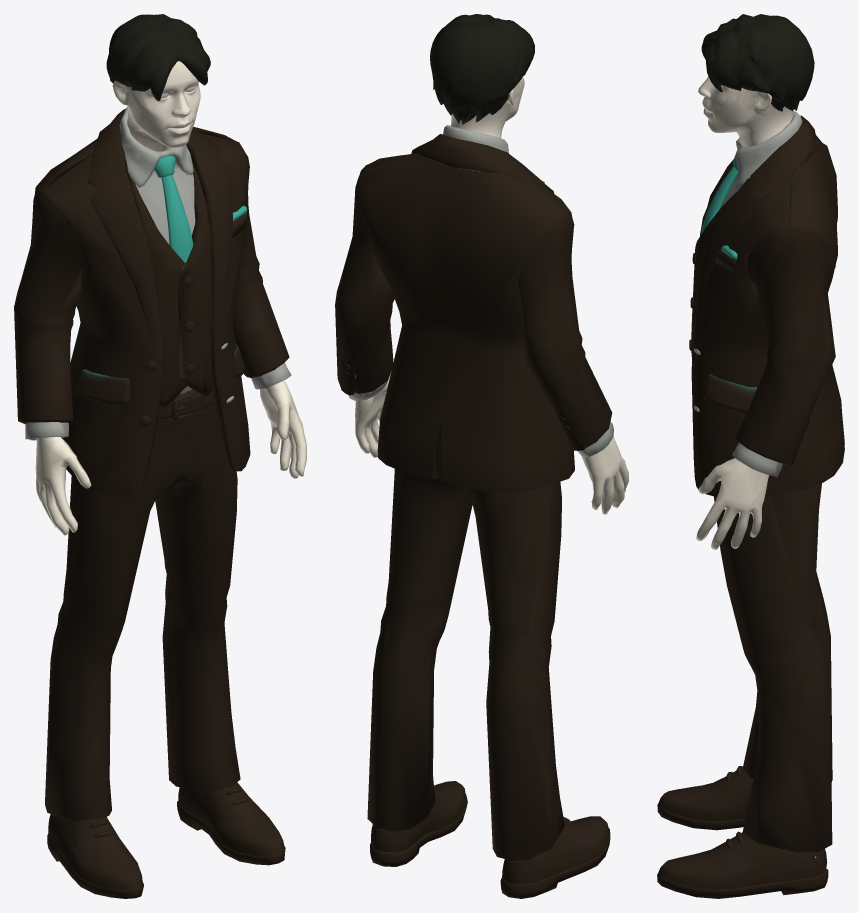
Rendered from personnage.obj.
The picture shows the model from 3 angles, left to right: view 1: azimuth 30°, elevation 25°; view 2: azimuth 150°, elevation 25°; view 3: azimuth 270°, elevation 25°; orthographic projection.
Visible parts, largest first — view 1: Wolf3D_Outfit_Top, Wolf3D_Outfit_Bottom, Wolf3D_Outfit_Footwear, Wolf3D_Hair, Wolf3D_Body, Wolf3D_Head; view 2: Wolf3D_Outfit_Top, Wolf3D_Outfit_Bottom, Wolf3D_Outfit_Footwear, Wolf3D_Hair, Wolf3D_Body, Wolf3D_Head; view 3: Wolf3D_Outfit_Top, Wolf3D_Outfit_Bottom, Wolf3D_Outfit_Footwear, Wolf3D_Hair, Wolf3D_Body, Wolf3D_Head.
Part boxes in pixels (left/top/right/bottom): Wolf3D_Outfit_Top: left=14, top=107, right=291, bottom=497; Wolf3D_Outfit_Bottom: left=45, top=389, right=240, bottom=821; Wolf3D_Outfit_Footwear: left=47, top=781, right=285, bottom=898; Wolf3D_Hair: left=106, top=14, right=210, bottom=101; Wolf3D_Body: left=35, top=380, right=306, bottom=535; Wolf3D_Head: left=112, top=61, right=200, bottom=151; Wolf3D_Outfit_Top: left=335, top=125, right=613, bottom=492; Wolf3D_Outfit_Bottom: left=367, top=469, right=564, bottom=861; Wolf3D_Outfit_Footwear: left=370, top=781, right=610, bottom=898; Wolf3D_Hair: left=430, top=14, right=534, bottom=124; Wolf3D_Body: left=355, top=373, right=628, bottom=826; Wolf3D_Head: left=450, top=76, right=524, bottom=171; Wolf3D_Outfit_Top: left=689, top=111, right=844, bottom=496; Wolf3D_Outfit_Bottom: left=714, top=483, right=832, bottom=852; Wolf3D_Outfit_Footwear: left=657, top=766, right=828, bottom=898; Wolf3D_Hair: left=701, top=14, right=814, bottom=111; Wolf3D_Body: left=696, top=458, right=816, bottom=857; Wolf3D_Head: left=698, top=76, right=793, bottom=146.
Bounding box in the file's own units: 0.616 × 1.85 × 0.3774.
